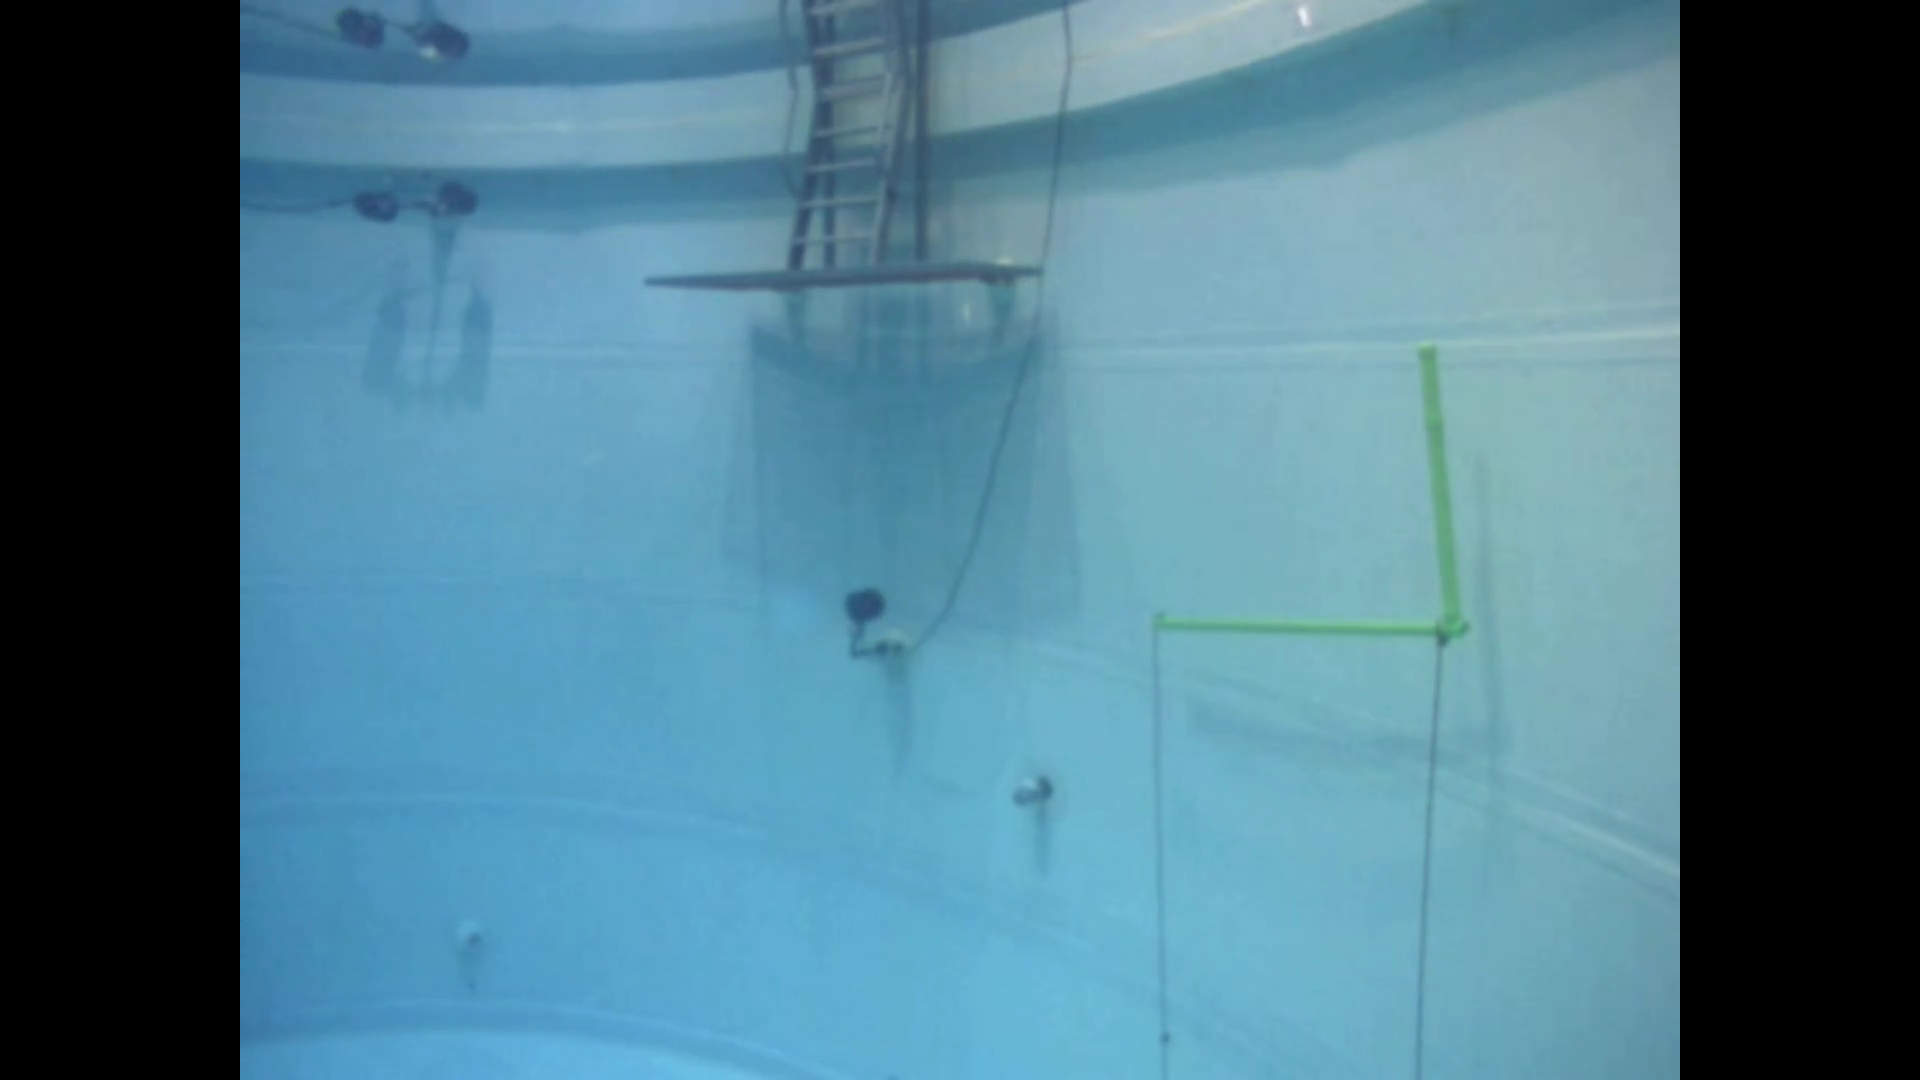gate: (1142, 326, 1478, 646)
